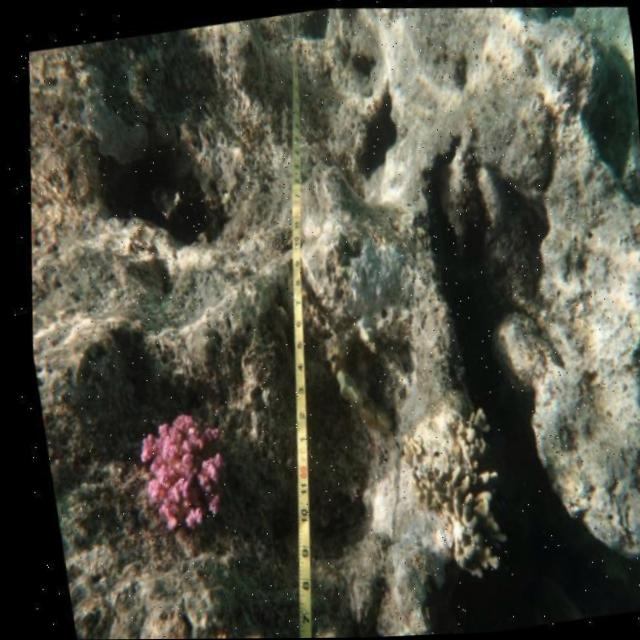Healthy Coral: (113, 401, 243, 550)
